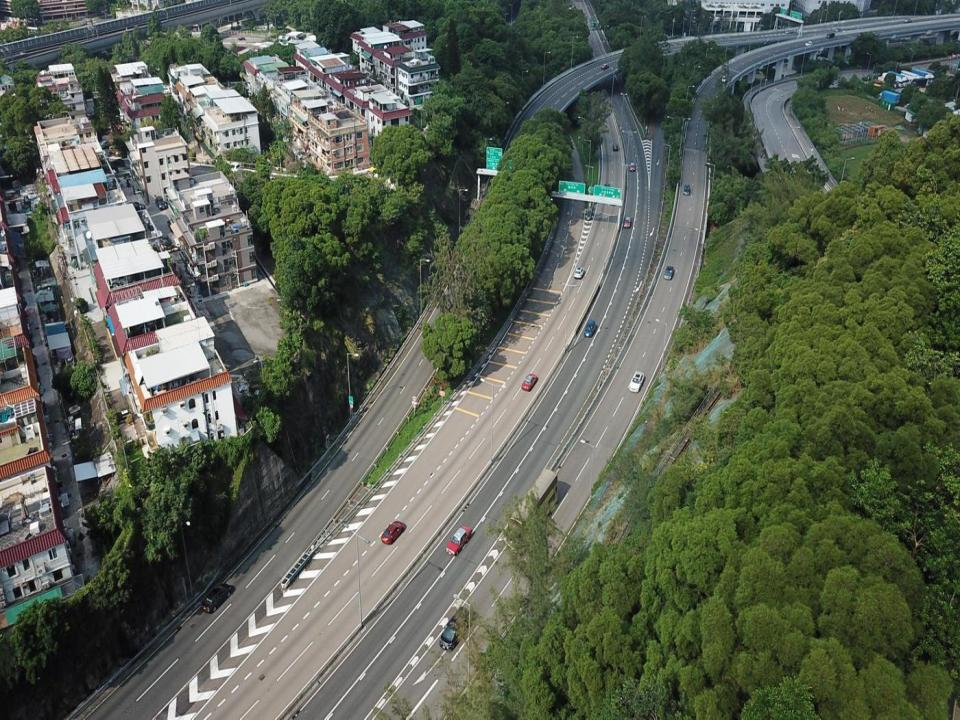bus: (506, 469, 558, 556), (589, 17, 597, 31)
car: (439, 606, 472, 652), (200, 582, 232, 615), (445, 524, 472, 558), (380, 519, 404, 545), (628, 371, 645, 393), (520, 373, 538, 392), (583, 319, 596, 338), (663, 264, 675, 281), (573, 266, 584, 279), (624, 216, 632, 229), (683, 181, 690, 195), (628, 161, 636, 172), (600, 62, 610, 70), (804, 40, 812, 48), (721, 74, 728, 83), (612, 142, 618, 152)
van: (826, 31, 835, 39)
